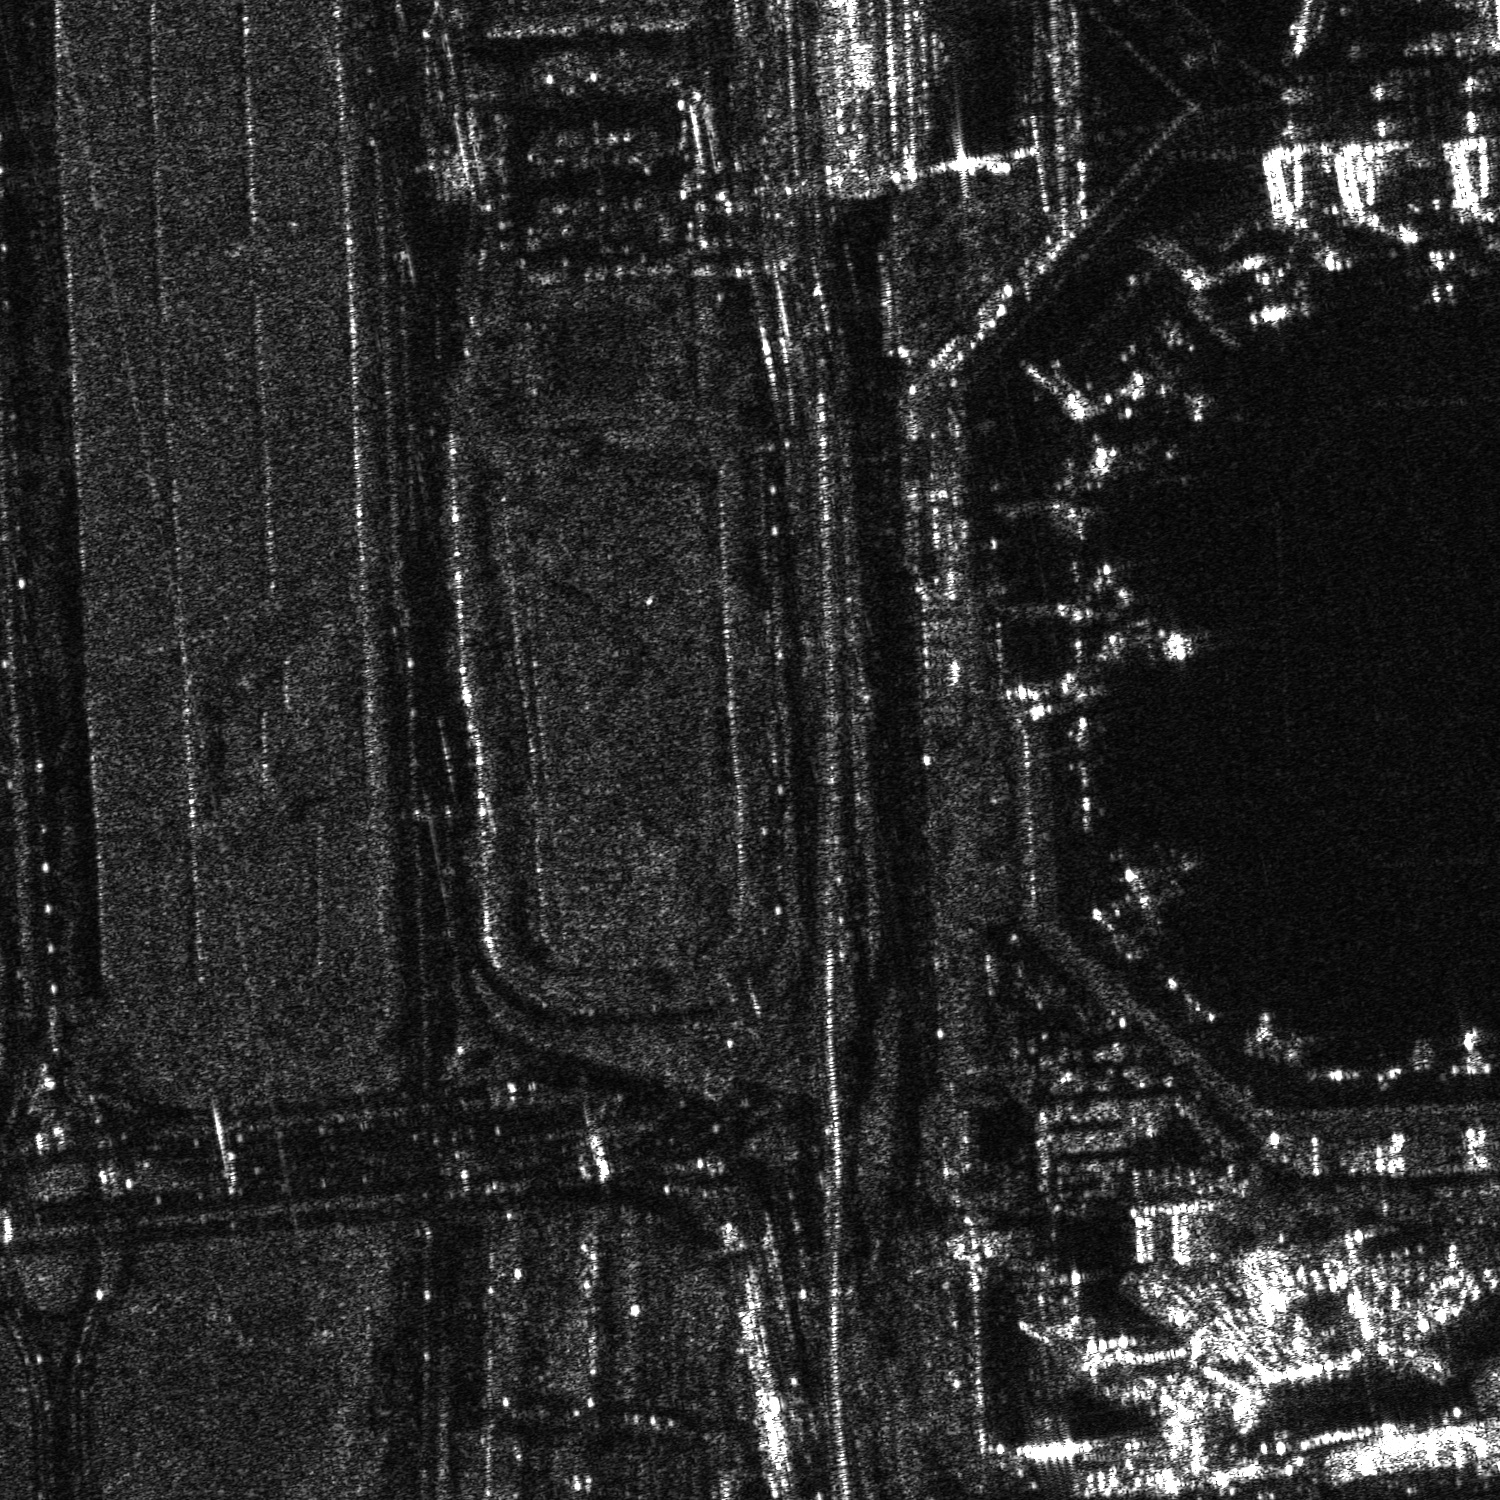A220: (1102, 839, 1205, 930), (1400, 240, 1481, 310)
A320/321: (1074, 582, 1202, 670), (1137, 363, 1218, 429)
